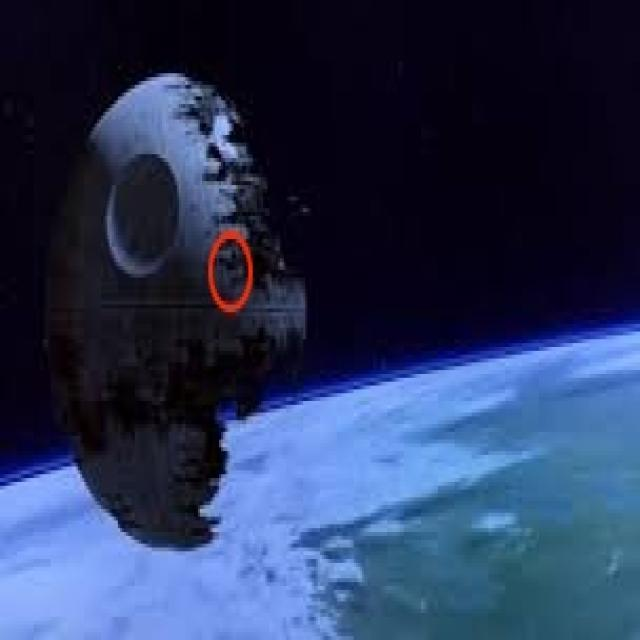deathStar: (47, 73, 306, 556)
